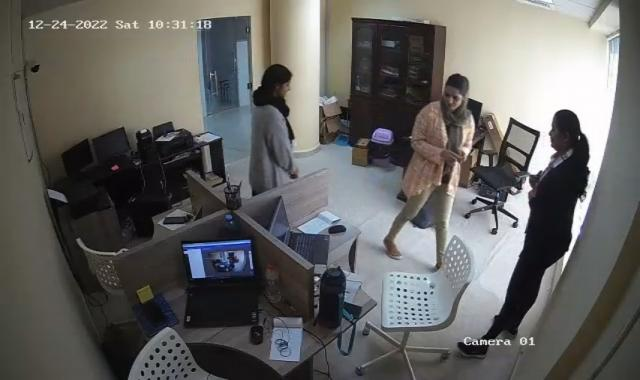no_hairnet: (548, 110, 580, 154), (258, 64, 294, 100), (444, 72, 471, 115)
